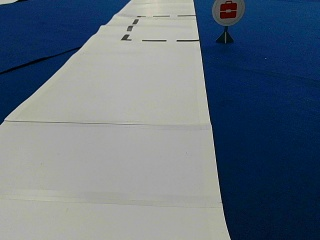company: (211, 0, 245, 25)
